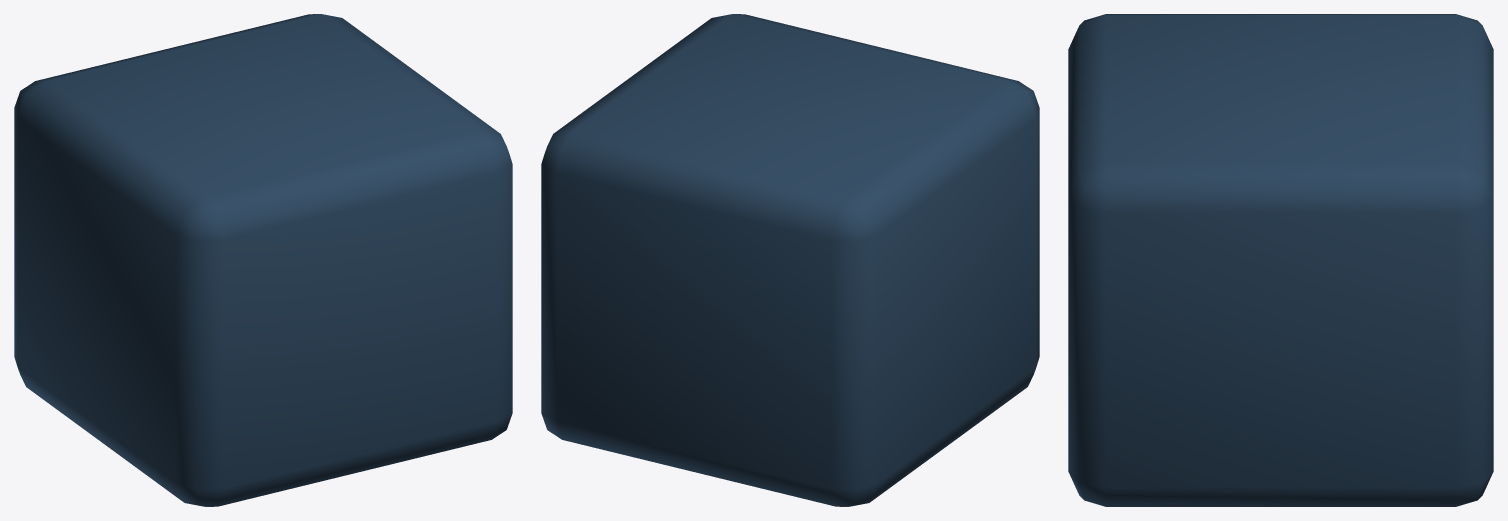
File: i_pouf_5.glb
3 renders of one model, left to right at view 1: azimuth 30°, elevation 25°; view 2: azimuth 150°, elevation 25°; view 3: azimuth 270°, elevation 25°, orthographic. The views are drawn at different scales.
Parts seen in each view (by area): view 1: o; view 2: o; view 3: o.
Boxes of the visible parts, <box> form: o: <box>14,14,512,506</box>; o: <box>541,14,1039,506</box>; o: <box>1068,14,1493,506</box>.
Bounding box in the file's own units: 0.45 × 0.4 × 0.45.
